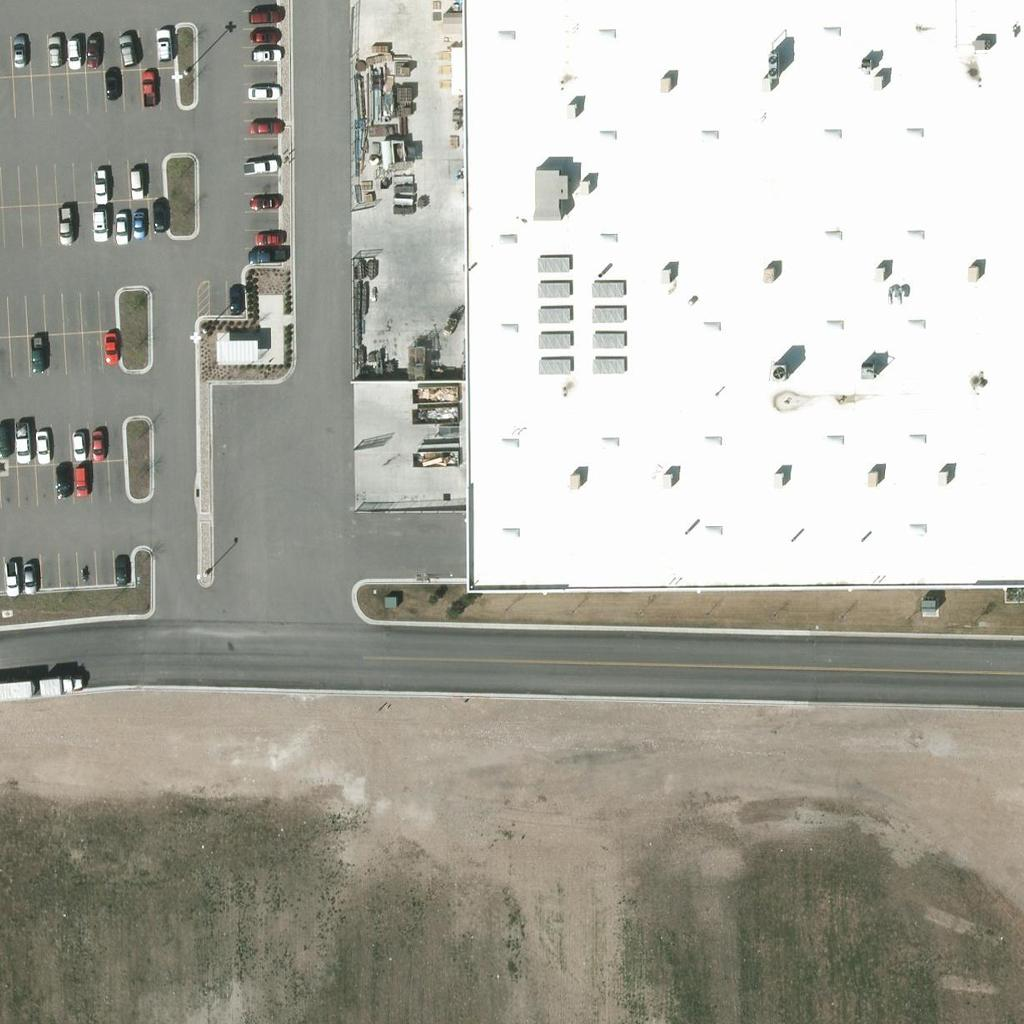car: (242, 18, 276, 52), (145, 30, 179, 64), (74, 34, 108, 68), (1, 35, 35, 69), (56, 35, 90, 69), (108, 35, 142, 69), (35, 38, 69, 72), (245, 38, 279, 72), (93, 70, 127, 104), (130, 70, 164, 104), (243, 76, 277, 110), (245, 109, 279, 143), (241, 150, 275, 184), (118, 166, 152, 200), (81, 172, 115, 206), (248, 185, 282, 219), (142, 199, 176, 233), (80, 206, 114, 240), (119, 207, 153, 241), (102, 210, 136, 244), (47, 212, 81, 246), (252, 221, 286, 255), (248, 237, 282, 271), (218, 281, 252, 315), (93, 328, 127, 362), (19, 336, 53, 370), (60, 426, 94, 460), (80, 426, 114, 460), (23, 428, 57, 462), (4, 429, 38, 463), (45, 461, 79, 495), (63, 462, 97, 496), (102, 554, 136, 588), (11, 559, 45, 593), (243, 0, 277, 32), (0, 563, 28, 597), (0, 421, 17, 455)
